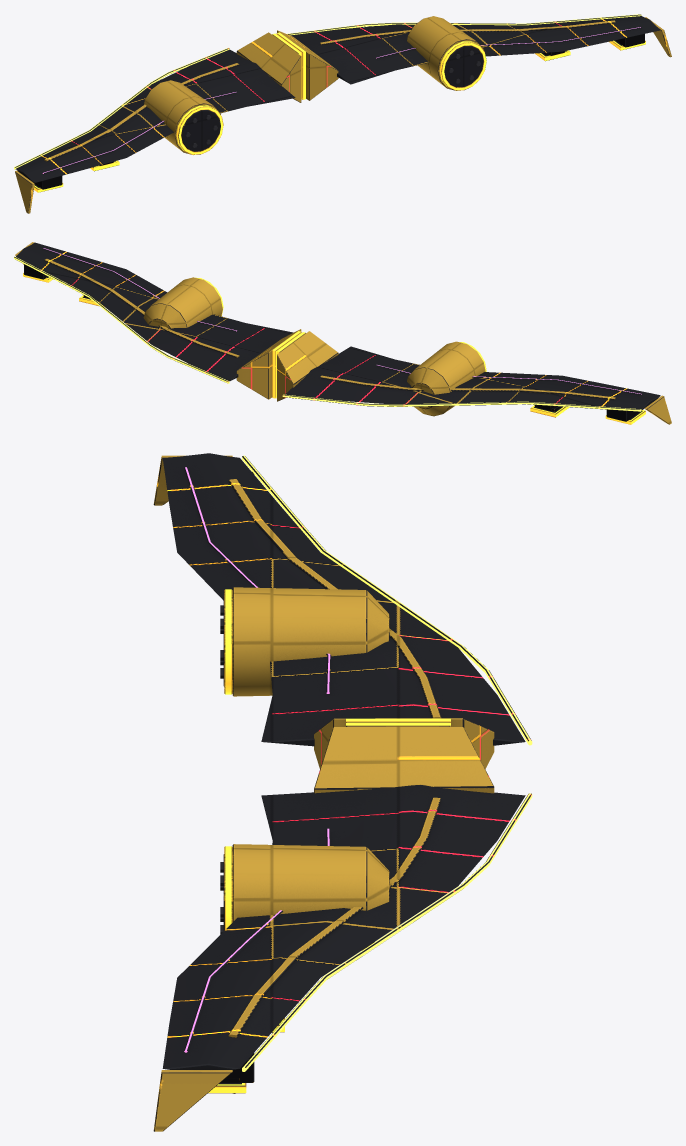
Rendered from ala_larga_t4.fbx.
3 views of the same model, one above another, from view 1: azimuth 30°, elevation 25°; view 2: azimuth 150°, elevation 25°; view 3: azimuth 270°, elevation 25° (orthographic). The views are drawn at different scales.
Visible parts, largest first — view 1: ala_larga_t4_izq, ala_larga_t4_der, ala_larga_t4_der_neon, ala_larga_t4_izq_neon; view 2: ala_larga_t4_izq, ala_larga_t4_der, ala_larga_t4_izq_neon, ala_larga_t4_der_neon; view 3: ala_larga_t4_der, ala_larga_t4_izq, ala_larga_t4_der_neon, ala_larga_t4_izq_neon.
Part boxes in pixels (x1=…): ala_larga_t4_izq: x1=15, y1=32, x2=301, y2=213; ala_larga_t4_der: x1=276, y1=14, x2=671, y2=100; ala_larga_t4_der_neon: x1=287, y1=14, x2=641, y2=35; ala_larga_t4_izq_neon: x1=14, y1=47, x2=229, y2=169; ala_larga_t4_izq: x1=276, y1=331, x2=671, y2=424; ala_larga_t4_der: x1=14, y1=242, x2=301, y2=399; ala_larga_t4_izq_neon: x1=282, y1=394, x2=641, y2=411; ala_larga_t4_der_neon: x1=14, y1=256, x2=229, y2=383; ala_larga_t4_der: x1=153, y1=723, x2=531, y2=1131; ala_larga_t4_izq: x1=153, y1=453, x2=531, y2=768; ala_larga_t4_der_neon: x1=242, y1=793, x2=532, y2=1071; ala_larga_t4_izq_neon: x1=242, y1=455, x2=532, y2=745.
Size of the model in its own units: 22.61 by 1.66 by 5.75.
